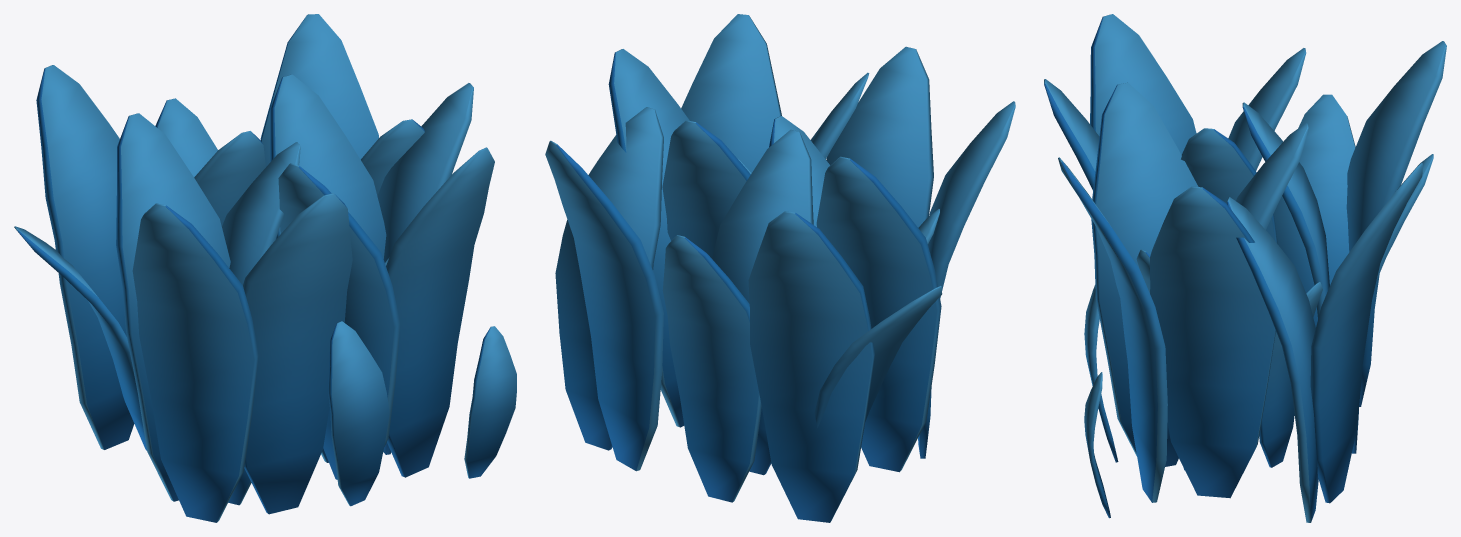
Rendered from Grass007.fbx.
3 views of the same model, side by side, from view 1: azimuth 30°, elevation 25°; view 2: azimuth 150°, elevation 25°; view 3: azimuth 270°, elevation 25° (orthographic).
Parts seen in each view (by area): view 1: Grass007; view 2: Grass007; view 3: Grass007.
Part boxes in pixels (<box>): Grass007: <box>14,14,516,522</box>; Grass007: <box>545,14,1015,522</box>; Grass007: <box>1044,14,1446,522</box>.
Size of the model in its own units: 176 by 147 by 154.
